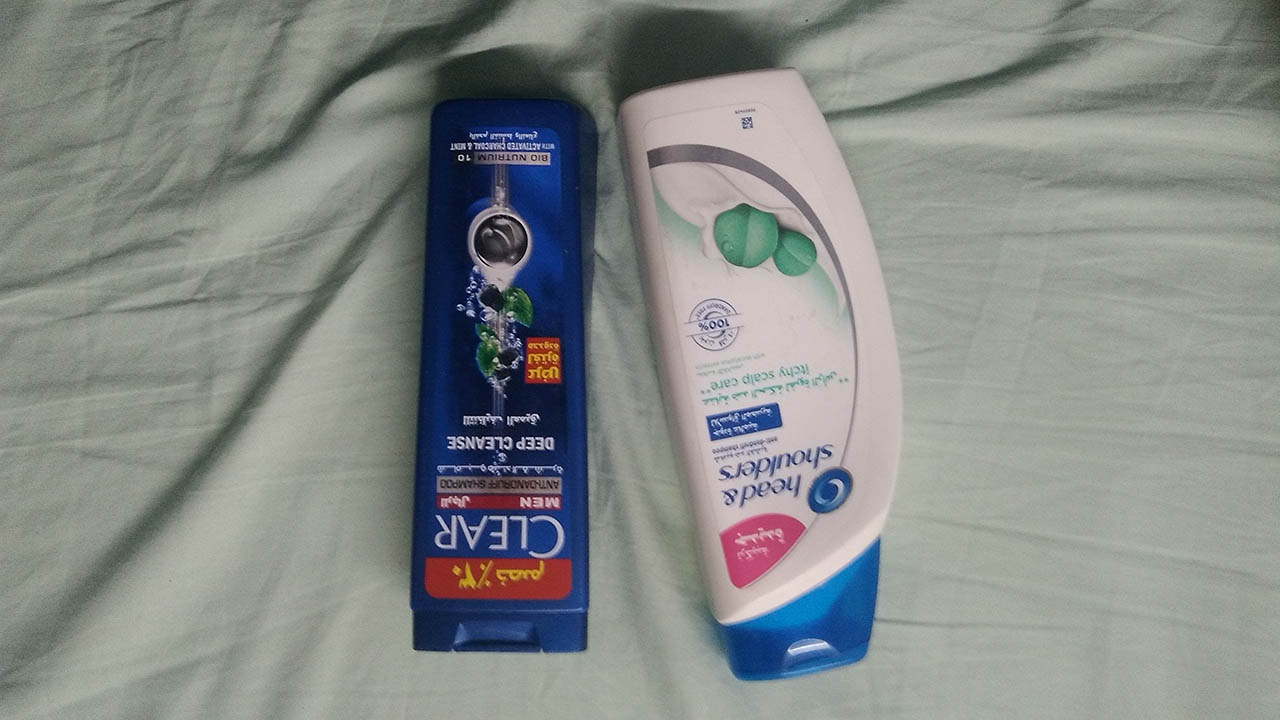Shampoo-Clear 4.7$: (413, 92, 600, 662)
shampoo-green 4.5$: (611, 59, 918, 674)
